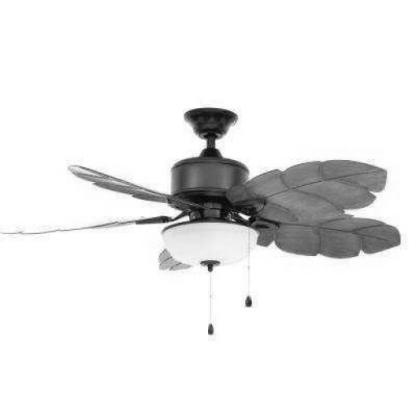ceiling-fan: (0, 105, 400, 340)
